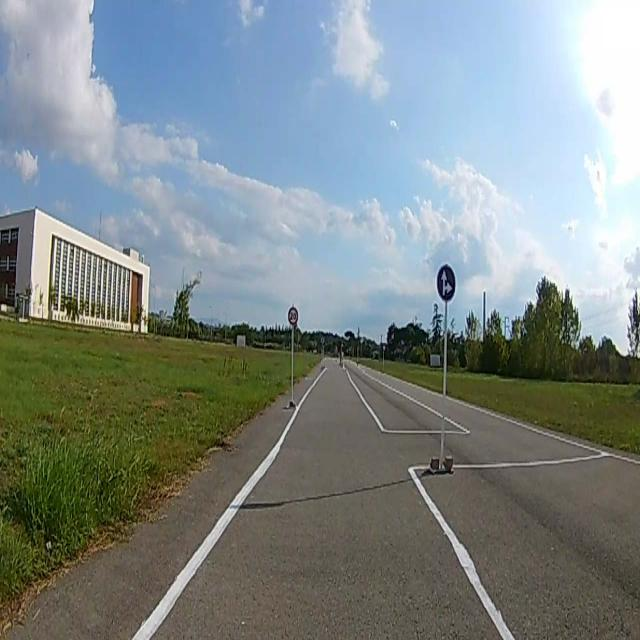20: (288, 308, 298, 324)
ilerisag: (437, 265, 455, 300)
